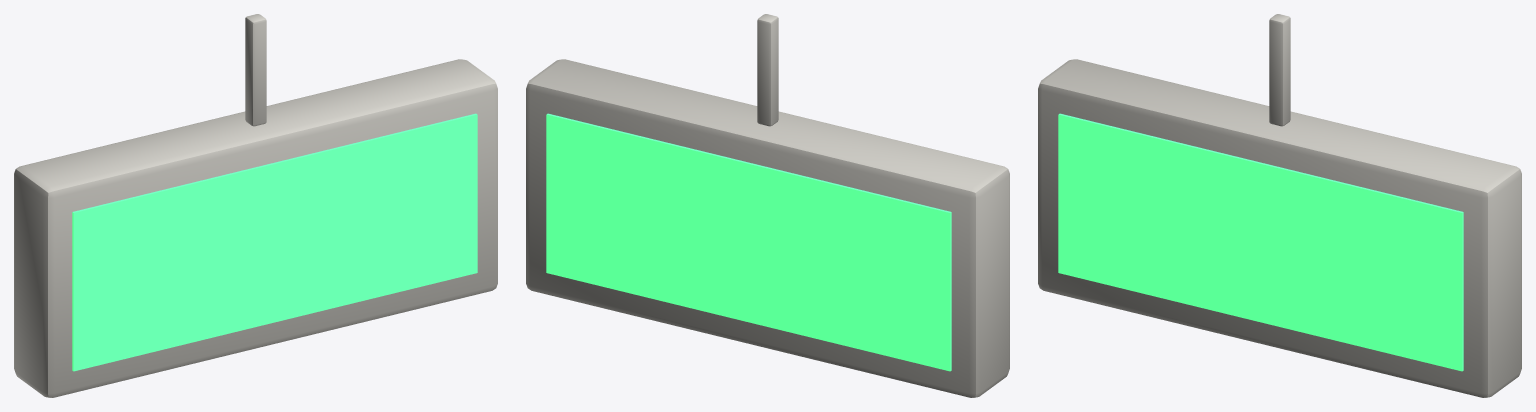
File: exit_sign.glb
3 renders of one model, left to right at view 1: azimuth 30°, elevation 25°; view 2: azimuth 150°, elevation 25°; view 3: azimuth 330°, elevation 25°, orthographic.
Visible parts, largest first — view 1: exit_sign; view 2: exit_sign; view 3: exit_sign.
Part boxes in pixels (x1,y1,x2,y2): exit_sign: (14, 14, 497, 397); exit_sign: (526, 14, 1009, 397); exit_sign: (1038, 14, 1521, 397).
Bounding box in the file's own units: 0.36 × 0.24 × 0.054.
